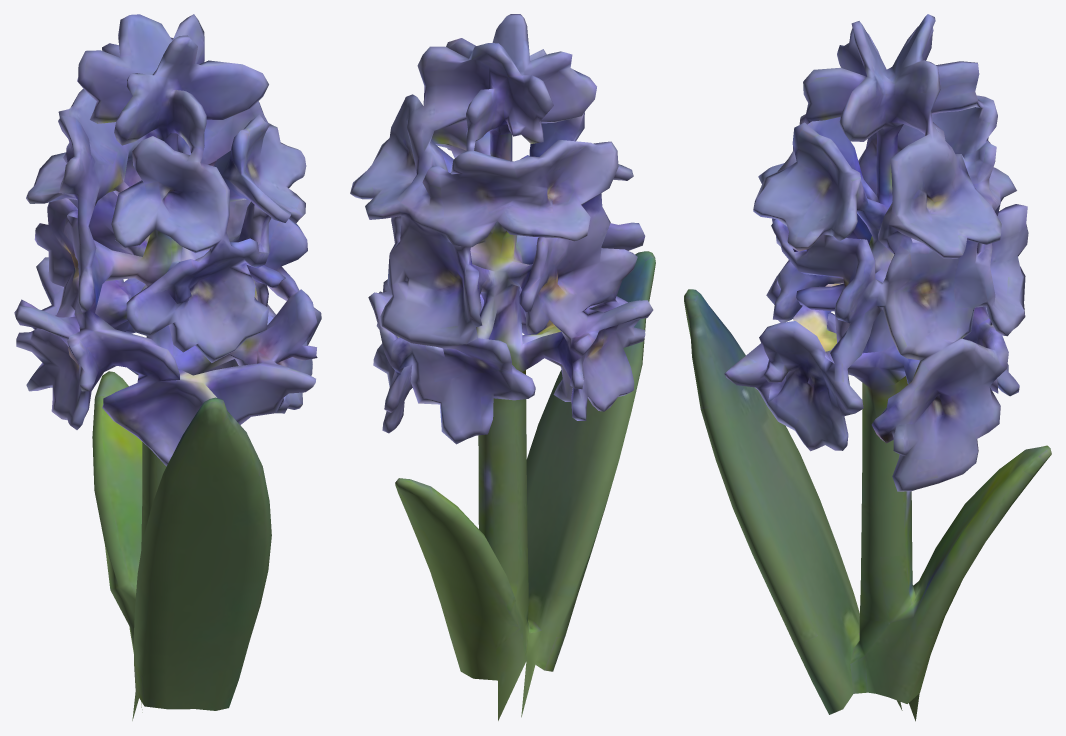
3 views of the same model, side by side, from view 1: azimuth 30°, elevation 25°; view 2: azimuth 150°, elevation 25°; view 3: azimuth 270°, elevation 25° (orthographic). The views are drawn at different scales.
Parts seen in each view (by area): view 1: ed1b7c7c; view 2: ed1b7c7c; view 3: ed1b7c7c.
Part boxes in pixels (left/top/right/bottom): ed1b7c7c: left=14, top=14, right=321, bottom=720; ed1b7c7c: left=350, top=14, right=655, bottom=720; ed1b7c7c: left=684, top=14, right=1051, bottom=721.
Size of the model in its own units: 0.0814 by 0.1871 by 0.0885.
1 material, 1 textured.
